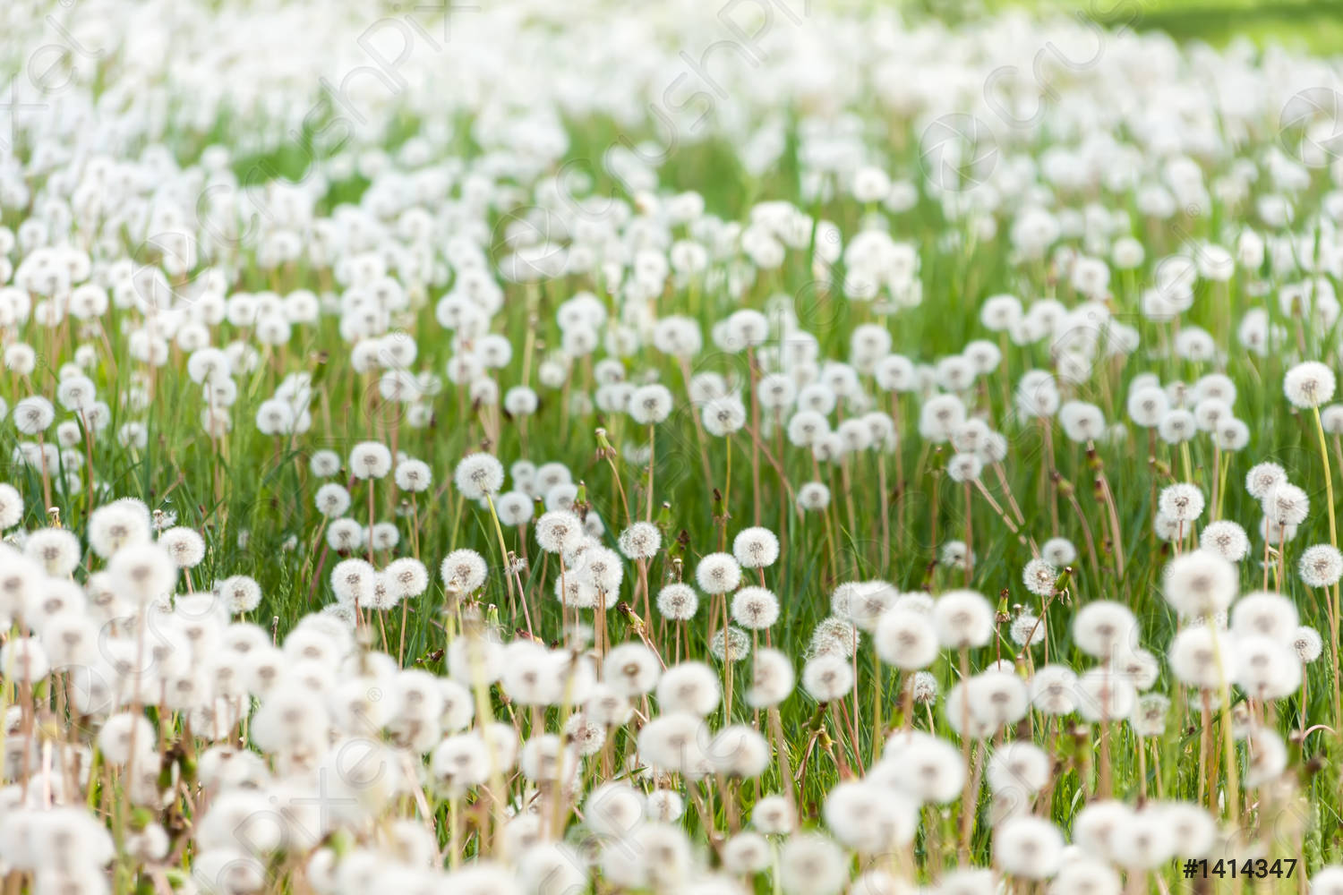begonvil: (78, 500, 211, 632), (835, 582, 1010, 682), (1152, 546, 1241, 636), (1240, 451, 1312, 553), (1281, 366, 1343, 473), (602, 639, 666, 718), (1070, 604, 1142, 671), (792, 401, 862, 469), (986, 740, 1049, 807), (1016, 534, 1075, 605), (1288, 539, 1343, 611), (20, 527, 79, 590), (694, 389, 746, 450), (214, 571, 277, 620), (453, 451, 507, 505), (441, 543, 492, 600), (691, 546, 743, 600), (733, 518, 783, 571), (396, 450, 444, 505), (1193, 518, 1249, 565), (375, 554, 430, 600), (618, 518, 668, 567), (530, 507, 579, 555), (326, 557, 378, 602), (627, 380, 673, 430), (730, 594, 781, 638), (53, 371, 102, 414), (653, 579, 695, 629), (1152, 482, 1210, 517), (578, 546, 625, 589), (347, 443, 392, 483), (944, 446, 985, 487), (327, 516, 363, 557), (312, 475, 353, 511), (368, 521, 407, 558)
